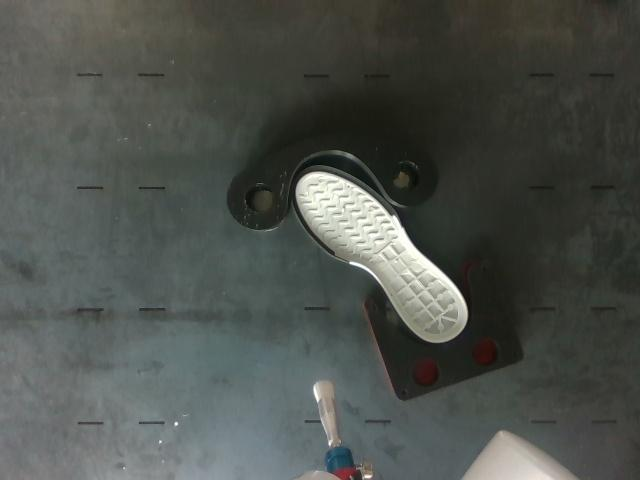shoes: (291, 164, 466, 342)
